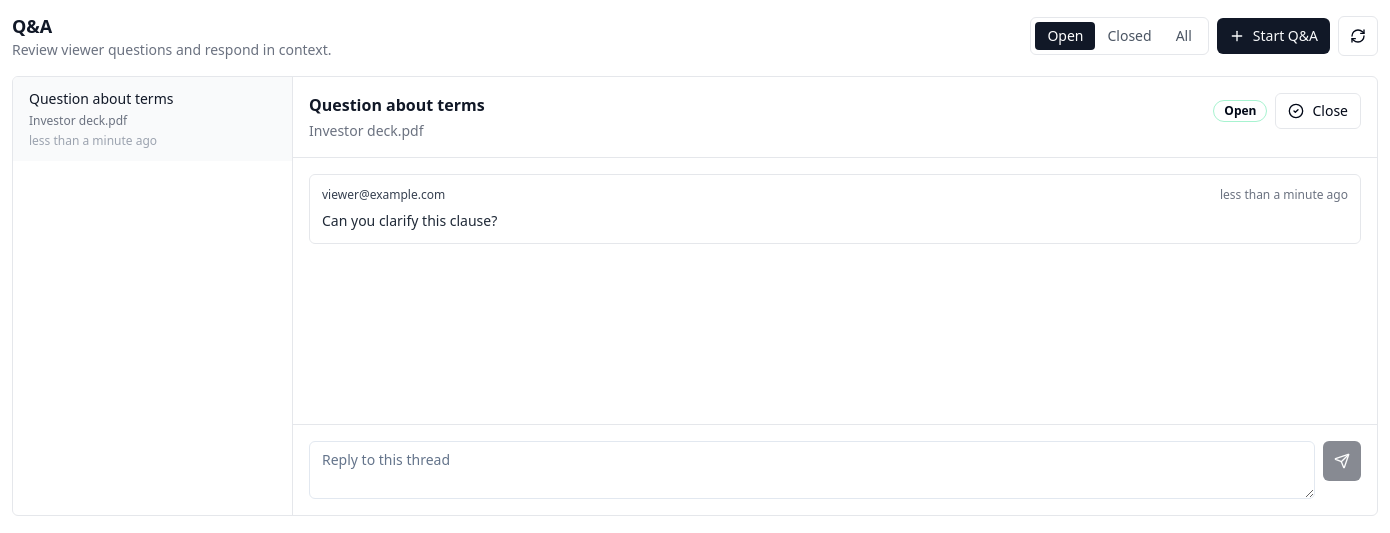
Scenario: OwnerQnAManager › sends an owner reply
Expected: the text "Question about terms" is shown, [29,89,173,109]
Type "Owner answer" into the text box named "Owner Q&A reply". click: (812, 470)
box: [309,441,1315,499]
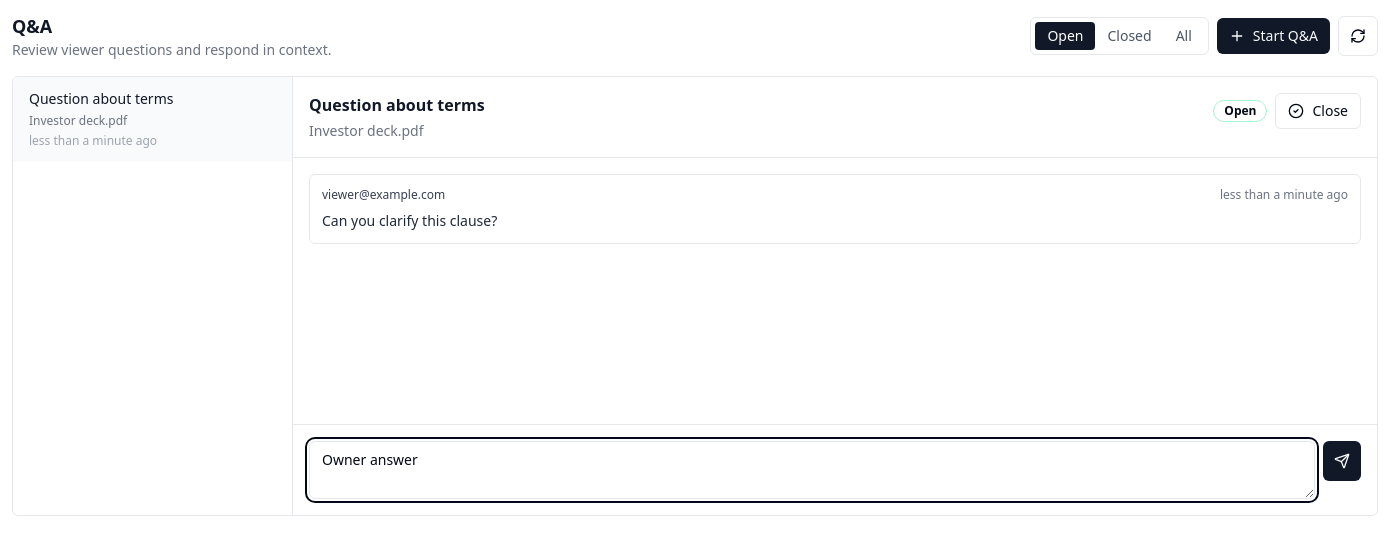
Click the button named "send owner q&a reply". click: (1342, 461)
box: [1323,441,1361,481]
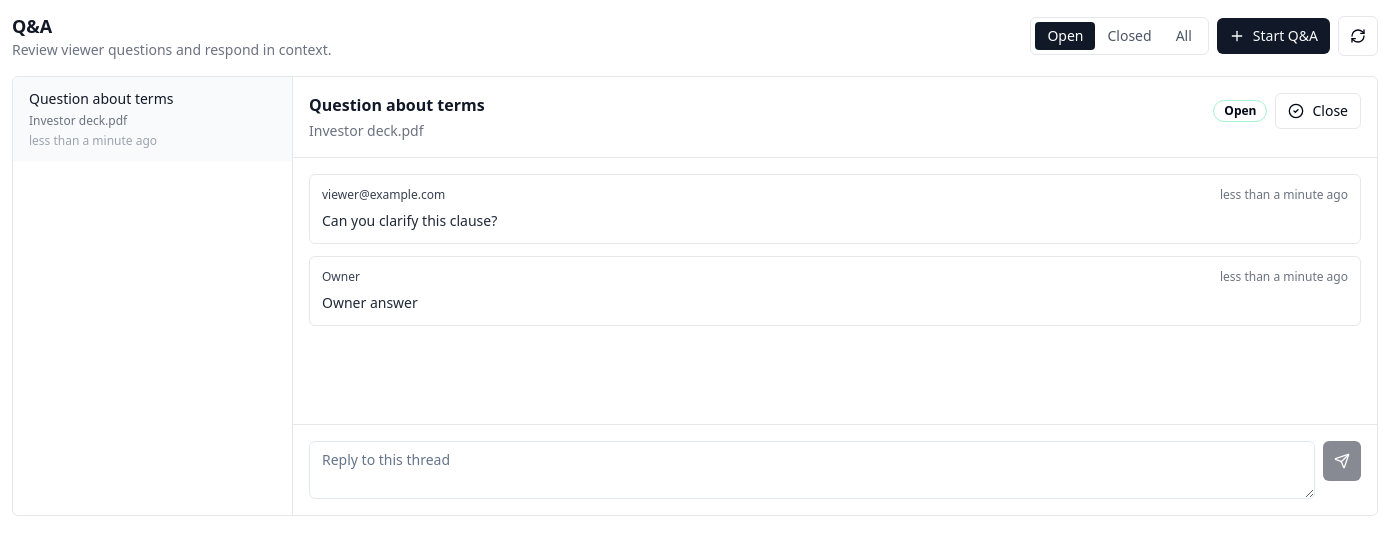
Expected: the text "Owner answer" is shown, [322,293,418,312]
